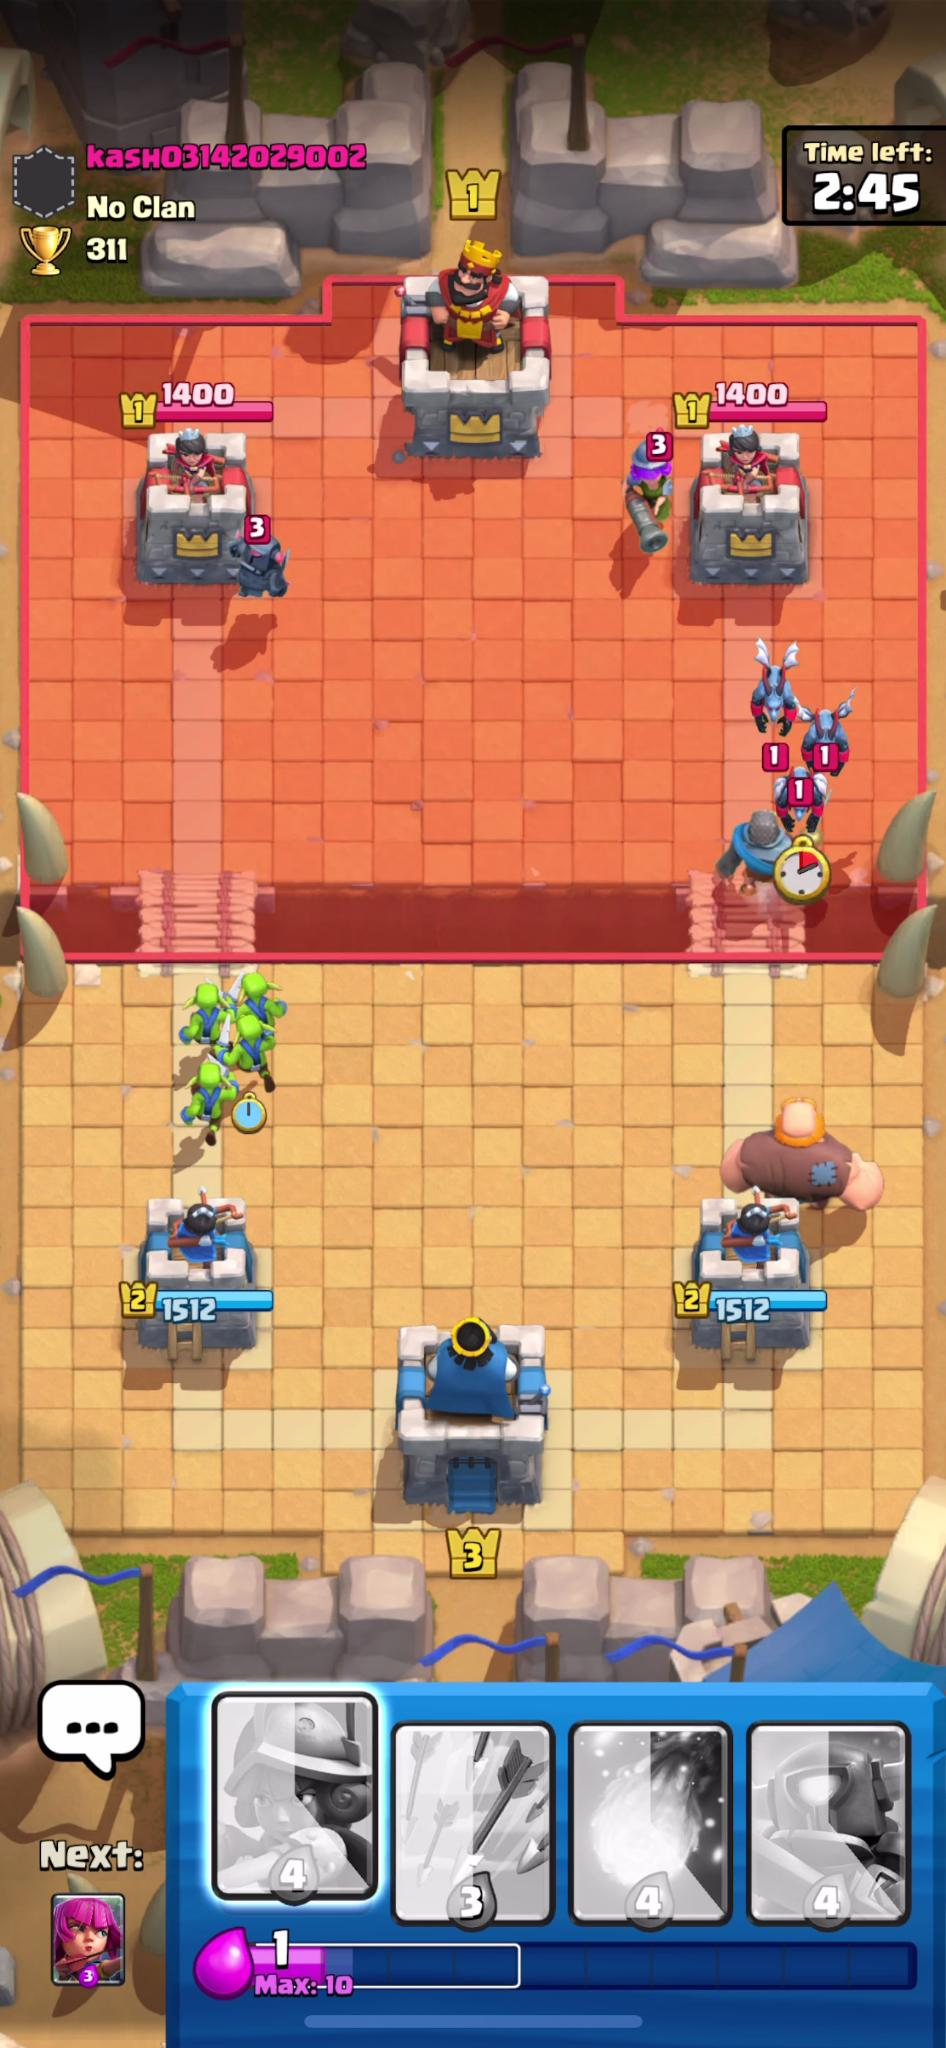archere: (188, 987, 229, 1042), (244, 972, 278, 1031)
gargouille: (736, 649, 814, 741), (798, 697, 861, 772)
geant: (694, 1095, 903, 1238)
gobelin: (235, 1008, 291, 1066)
gobelin_lances: (174, 1066, 240, 1139)
mini_PEKKA: (222, 530, 306, 607)
